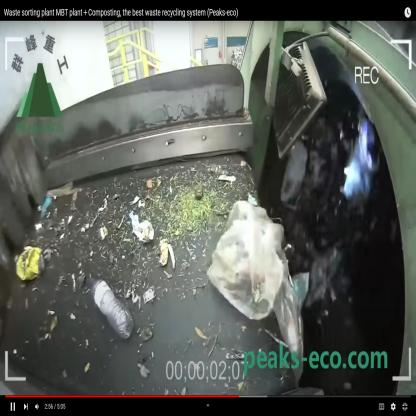Glass Bottle: (89, 274, 135, 342)
